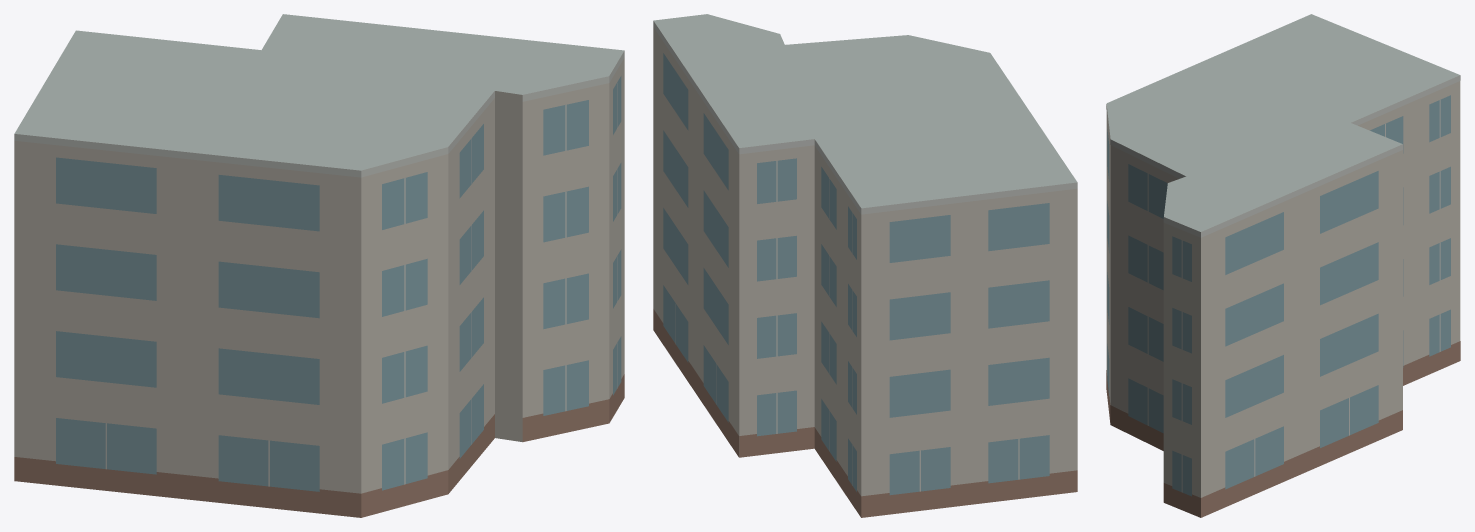
Rendered from residential-56ca30c5-3fb8-42bb-9392-746d6fd8c697.glb.
3 views of the same model, side by side, from view 1: azimuth 30°, elevation 25°; view 2: azimuth 150°, elevation 25°; view 3: azimuth 270°, elevation 25° (orthographic). The views are drawn at different scales.
Parts seen in each view (by area): view 1: residential-56ca30c5-3fb8-42bb-9392-746d6fd8c697.tmp; view 2: residential-56ca30c5-3fb8-42bb-9392-746d6fd8c697.tmp; view 3: residential-56ca30c5-3fb8-42bb-9392-746d6fd8c697.tmp.
Boxes of the visible parts, x1,y1,x2,y2 form: residential-56ca30c5-3fb8-42bb-9392-746d6fd8c697.tmp: (14, 14, 624, 517); residential-56ca30c5-3fb8-42bb-9392-746d6fd8c697.tmp: (653, 14, 1077, 517); residential-56ca30c5-3fb8-42bb-9392-746d6fd8c697.tmp: (1106, 14, 1460, 517).
Size of the model in its own units: 19.98 by 12.2 by 13.7.
